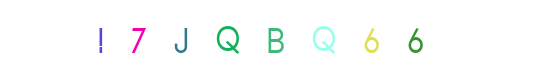6: (262, 0, 342, 80), (331, 0, 411, 80)
7: (98, 0, 178, 80)
B: (241, 0, 321, 80)
I: (60, 0, 140, 80)
J: (143, 0, 223, 80)
Q: (235, 0, 315, 80), (247, 0, 327, 80)
